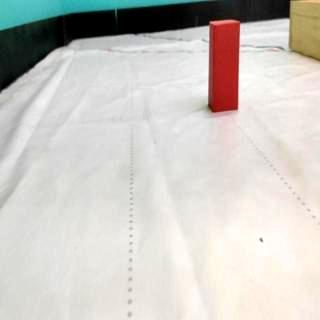redbox: (207, 18, 241, 112)
